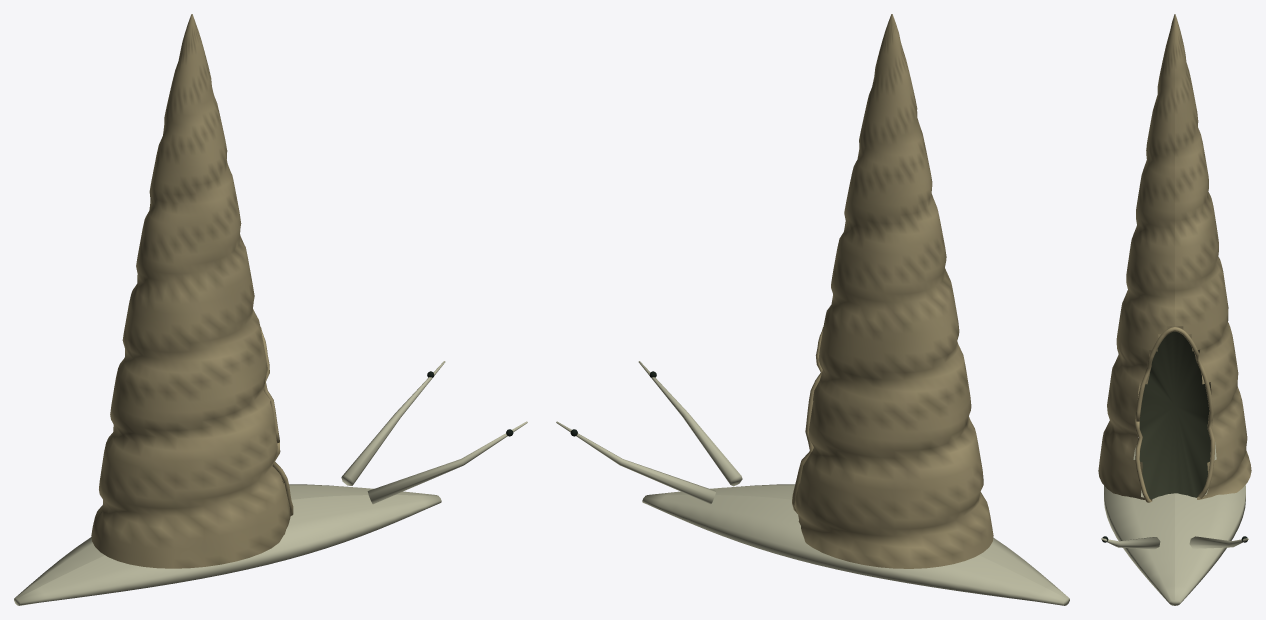
File: trumpet-mobile.glb
3 views of the same model, side by side, from view 1: azimuth 30°, elevation 25°; view 2: azimuth 150°, elevation 25°; view 3: azimuth 270°, elevation 25° (orthographic). The views are drawn at different scales.
Parts seen in each view (by area): view 1: connected-whorled-shell, muscular-foot, cephalic-tentacle, aperture-lip; view 2: connected-whorled-shell, muscular-foot, cephalic-tentacle, aperture-lip; view 3: connected-whorled-shell, muscular-foot, recessed-aperture, aperture-lip, cephalic-tentacle.
Boxes of the visible parts, left/top/right/bottom form: connected-whorled-shell: left=91, top=14, right=290, bottom=568; muscular-foot: left=14, top=484, right=441, bottom=605; cephalic-tentacle: left=341, top=361, right=527, bottom=504; aperture-lip: left=260, top=327, right=293, bottom=515; connected-whorled-shell: left=794, top=14, right=993, bottom=568; muscular-foot: left=642, top=484, right=1069, bottom=605; cephalic-tentacle: left=556, top=361, right=742, bottom=504; aperture-lip: left=792, top=327, right=823, bottom=514; connected-whorled-shell: left=1098, top=14, right=1251, bottom=500; muscular-foot: left=1104, top=442, right=1245, bottom=605; recessed-aperture: left=1139, top=331, right=1210, bottom=499; aperture-lip: left=1135, top=326, right=1214, bottom=502; cephalic-tentacle: left=1101, top=536, right=1248, bottom=549.
Bounding box in the file's own units: 0.5905 × 0.659 × 0.1885.
